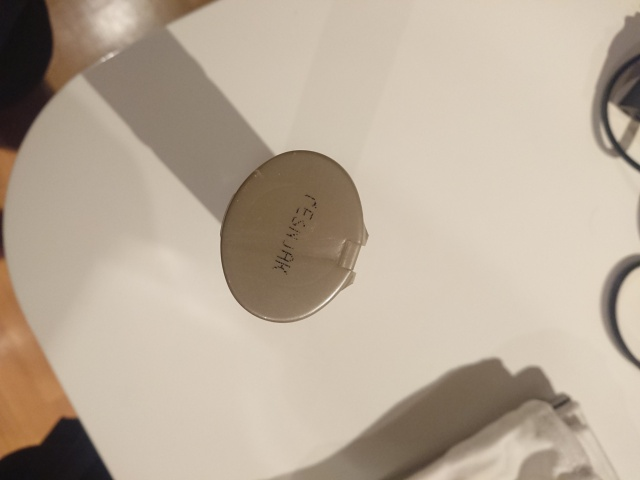Kotanyi Garlic Granules 70g: (218, 146, 372, 326)
